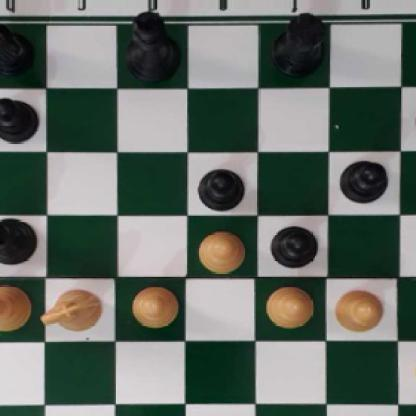black-bishop: (0, 216, 37, 265)
black-king: (123, 12, 184, 83)
black-knight: (0, 14, 34, 73)
black-pawn: (269, 222, 319, 268), (196, 164, 247, 209), (339, 157, 388, 203), (0, 94, 37, 142), (415, 94, 416, 142)
black-rook: (269, 12, 327, 75)
white-bishop: (0, 283, 31, 330)
white-knight: (43, 286, 103, 334)
white-pawn: (333, 286, 383, 333), (193, 229, 247, 272), (264, 283, 313, 328), (129, 286, 178, 328), (412, 348, 416, 395)
